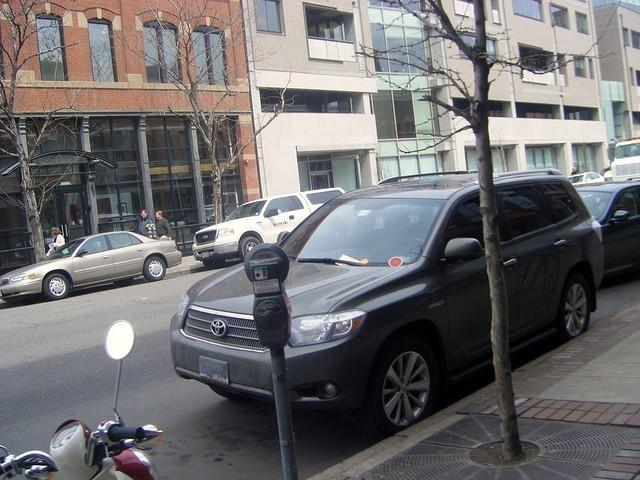car: (168, 170, 606, 445), (0, 229, 182, 301), (192, 186, 346, 267), (574, 177, 640, 278), (568, 170, 604, 188)
motorcycle: (0, 315, 169, 475)
truck: (602, 137, 640, 182)
